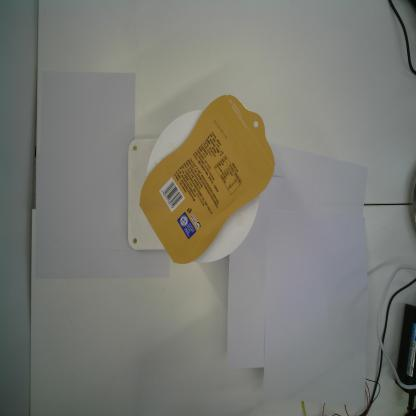Dried Fruit: (139, 93, 276, 265)
